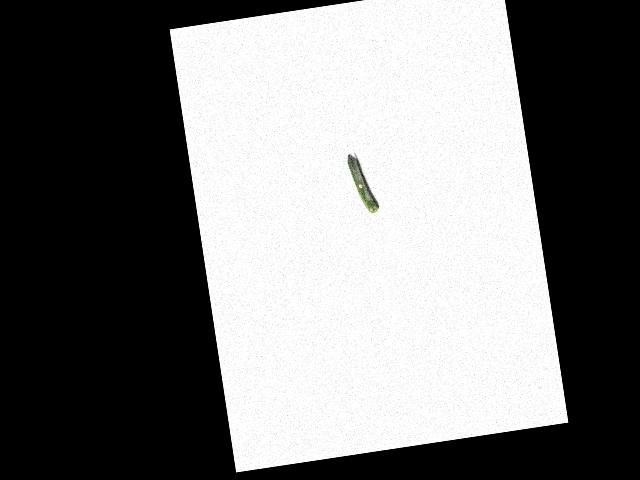cucumber: (346, 151, 378, 216)
